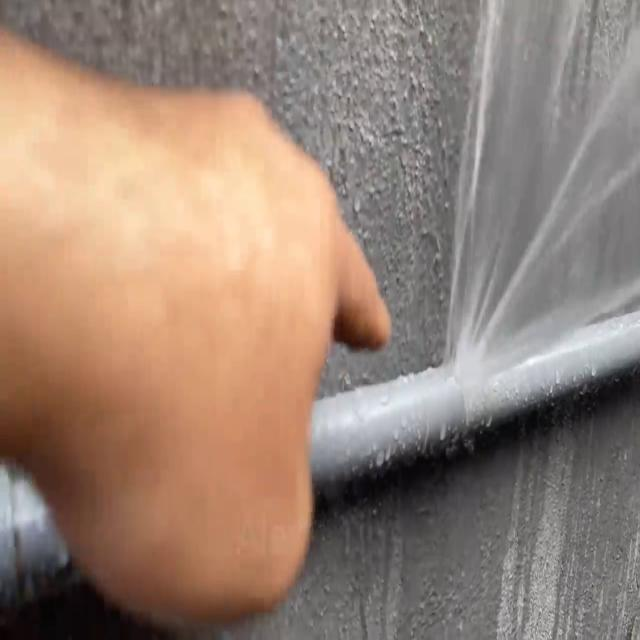leak: (443, 0, 640, 370)
